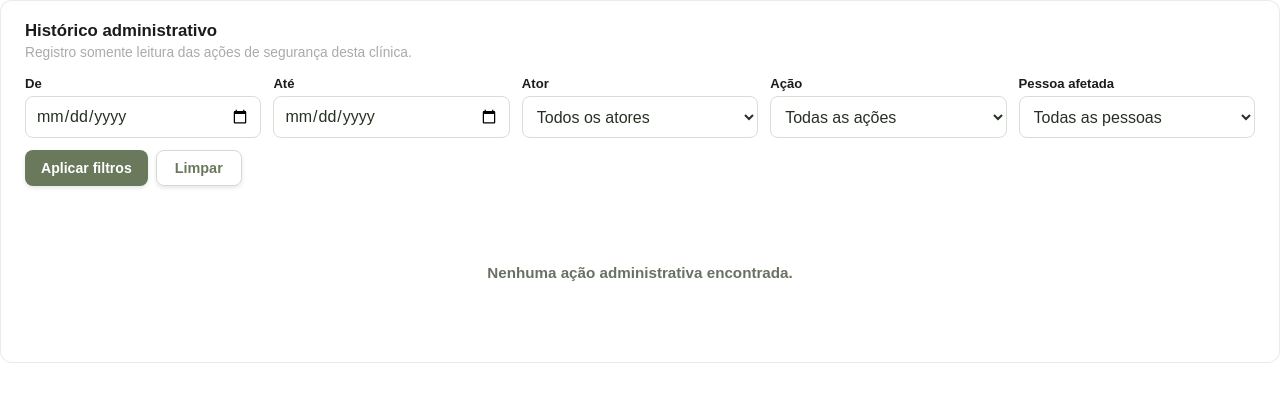
TeamAuditHistory › combina filtros sem permitir parametro tenant
The image size is (1280, 419).
Expected: the text "Nenhuma ação administrativa encontrada." is shown, [487,264,793,280]
In the date field labelled "De": x=143, y=117 [25,96,261,138], type "2026-07-01"
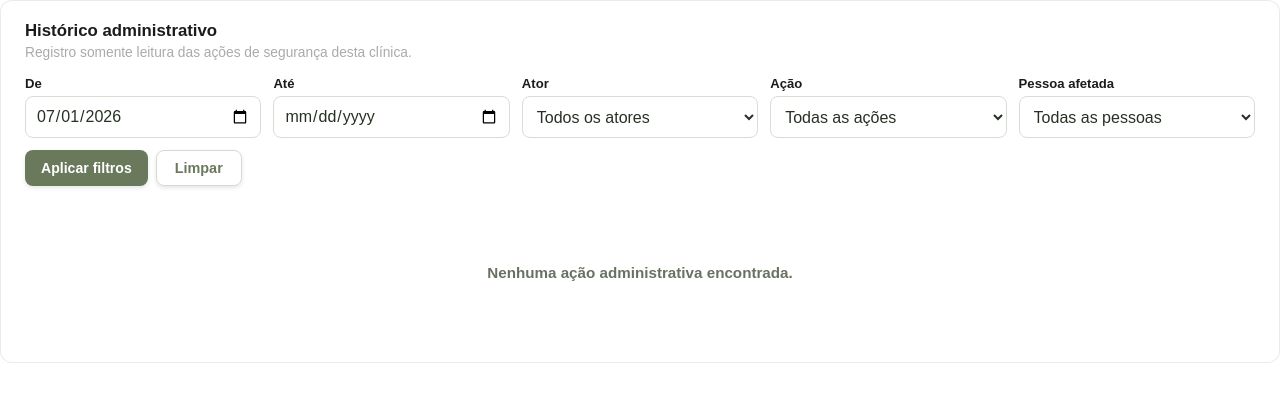
In the date field labelled "Até": x=392, y=117 [273,96,510,138], type "2026-07-31"
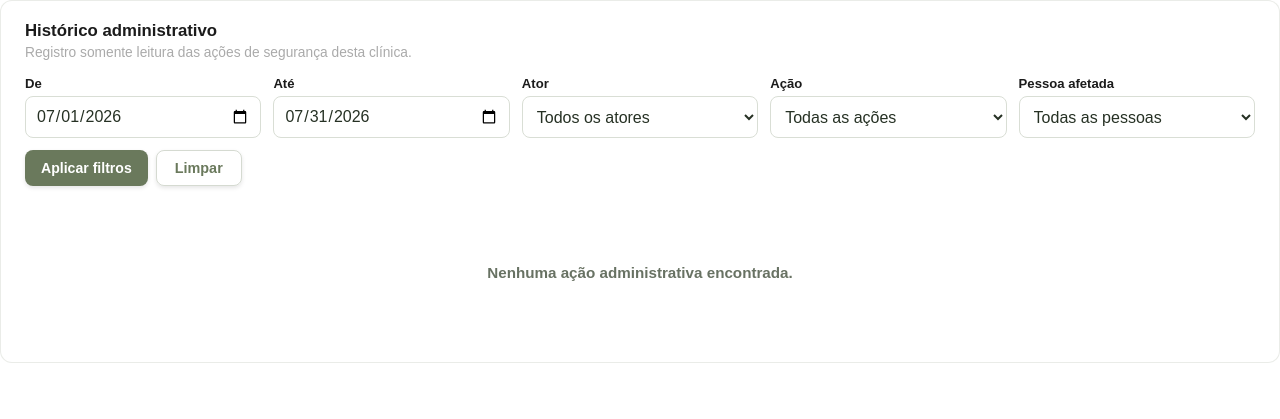
Select "Administradora" in the dropdown labelled "Ator": x=640, y=117 [522,96,758,138]
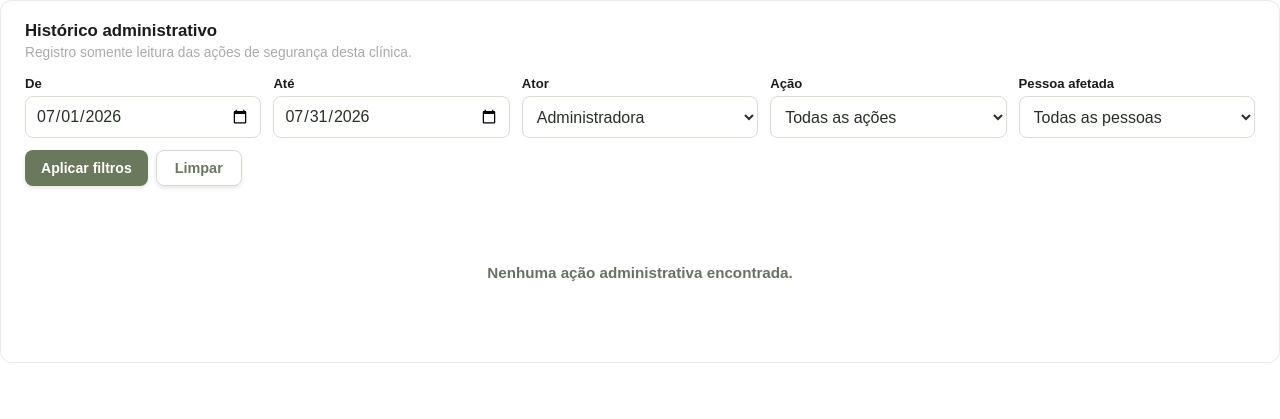
Select "Conta de acesso bloqueada" in the dropdown labelled "Ação": x=888, y=117 [770,96,1007,138]
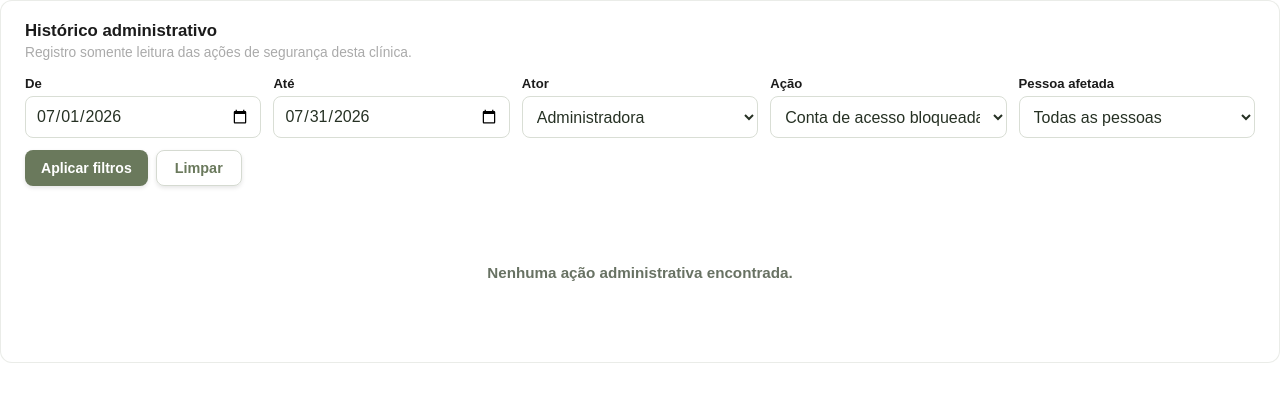
Select "Pessoa Inativa" in the dropdown labelled "Pessoa afetada": x=1137, y=117 [1019,96,1255,138]
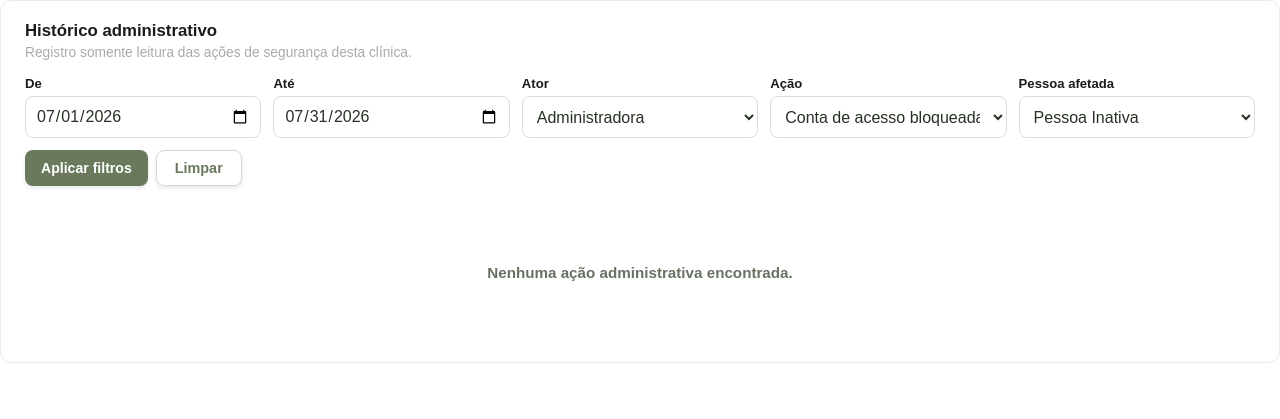
Click the button "Aplicar filtros": x=86, y=168 [25,150,148,186]
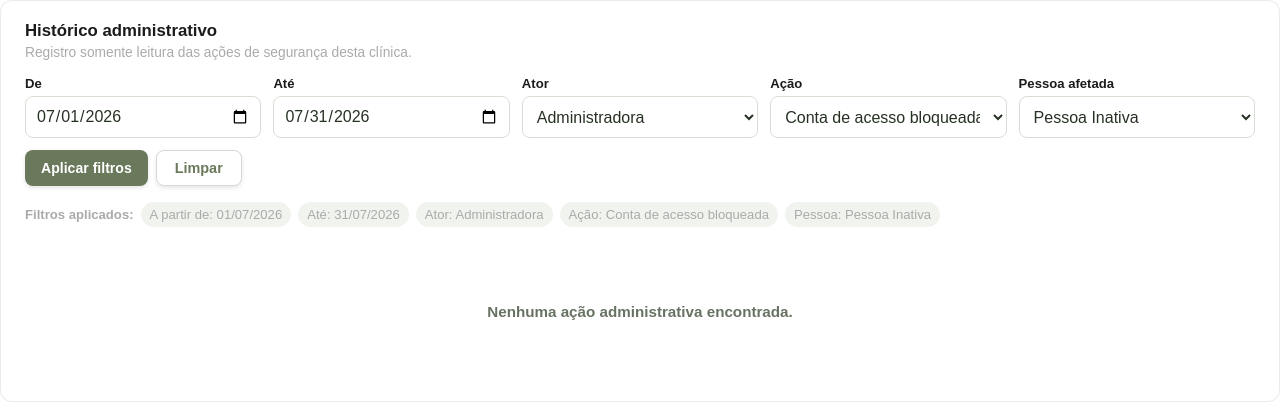
Expected: the element labelled "Filtros aplicados" shows "Administradora", [425,207,544,222]
Expected: the element labelled "Filtros aplicados" shows "Pessoa Inativa", [794,207,931,222]
